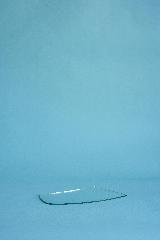glass: (34, 184, 126, 206)
